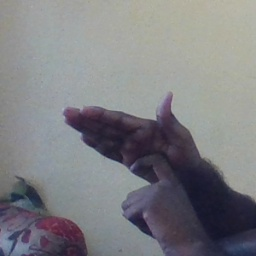R: (59, 91, 205, 227)
